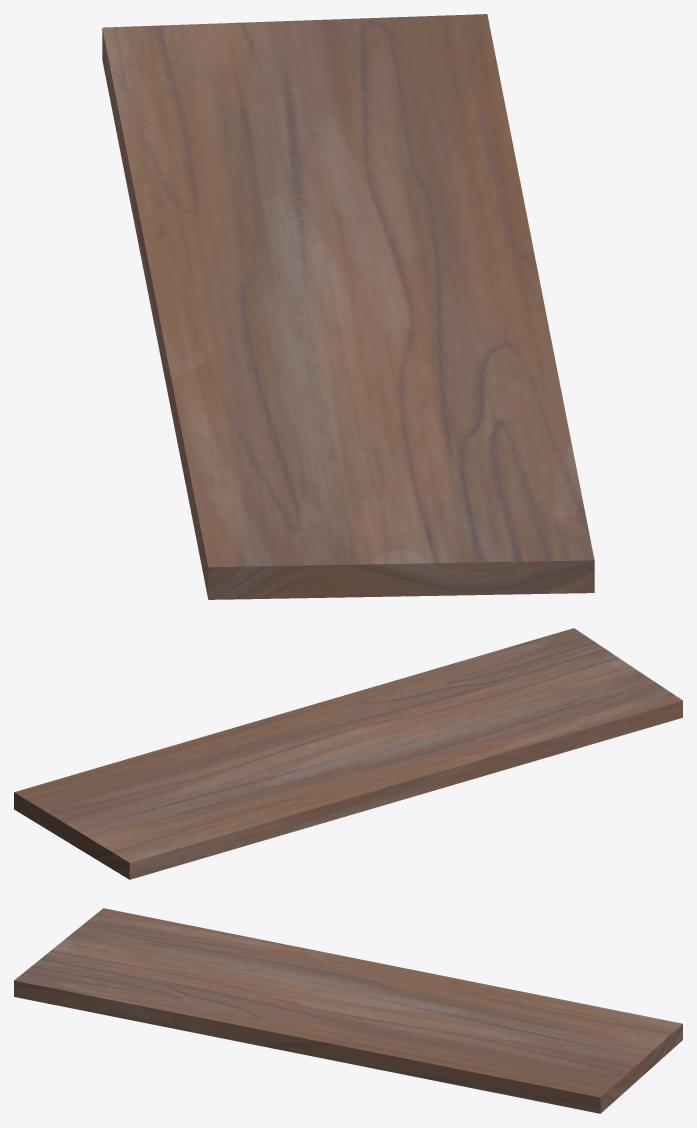
Rendered from plank_015.fbx.
3 views of the same model, one above another, from view 1: azimuth 30°, elevation 25°; view 2: azimuth 150°, elevation 25°; view 3: azimuth 270°, elevation 25° (orthographic). The views are drawn at different scales.
Visible parts, largest first — view 1: plank.015; view 2: plank.015; view 3: plank.015.
Part boxes in pixels (x1,y1,x2,y2): plank.015: [102, 14, 594, 599]; plank.015: [14, 628, 682, 879]; plank.015: [14, 908, 682, 1113].
Size of the model in its own units: 24.77 by 0.9957 by 36.98.
